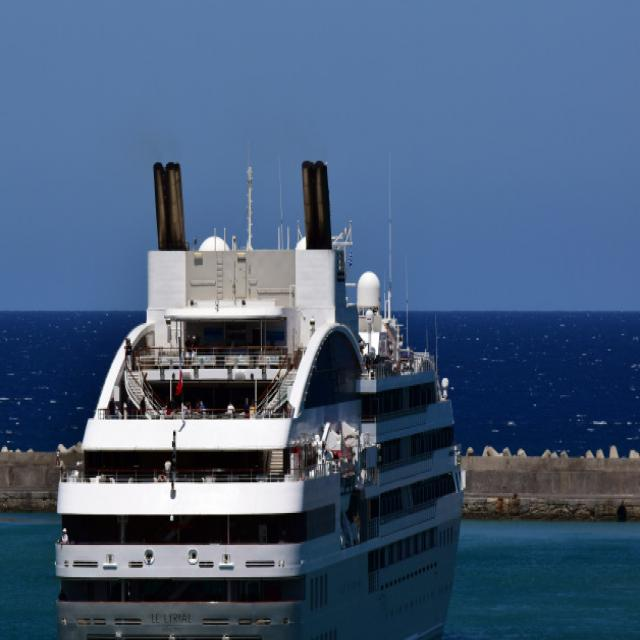cruises: (47, 155, 469, 640)
